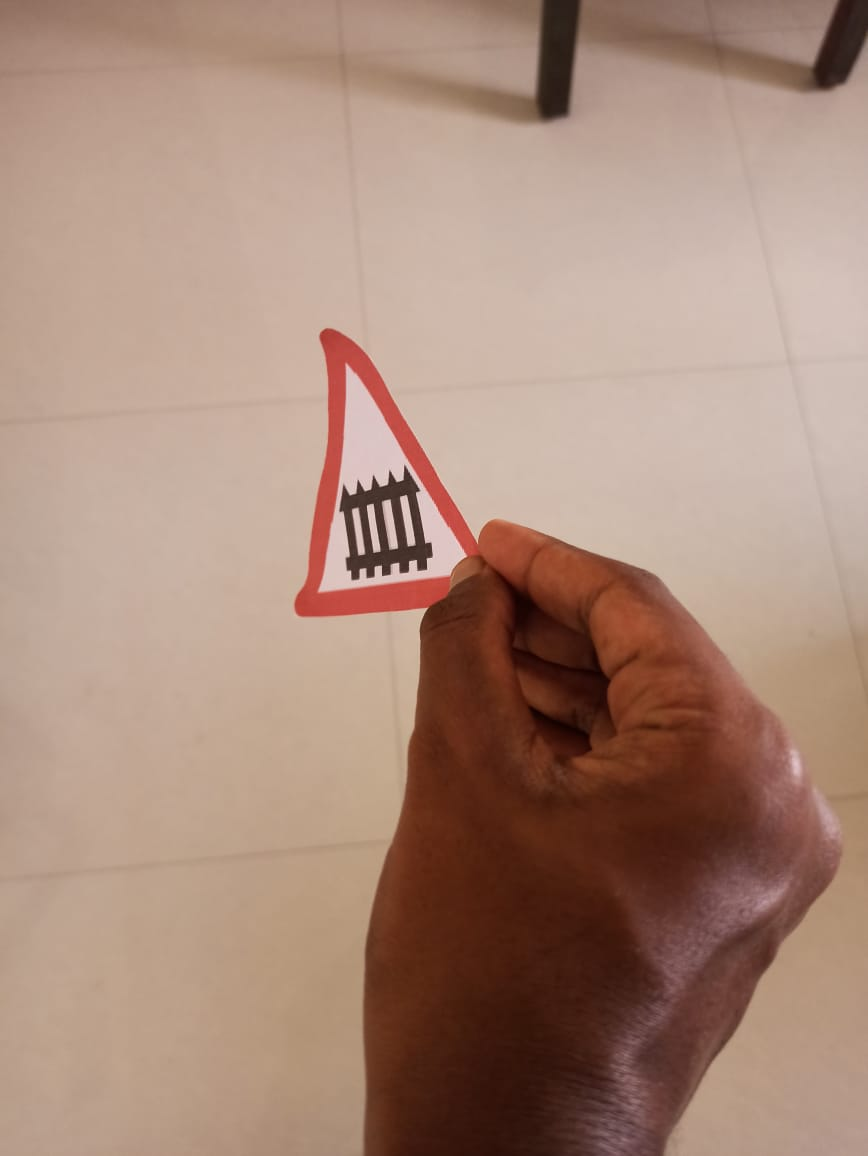GUARDED LEVEL CROSSING: (295, 320, 505, 626)
